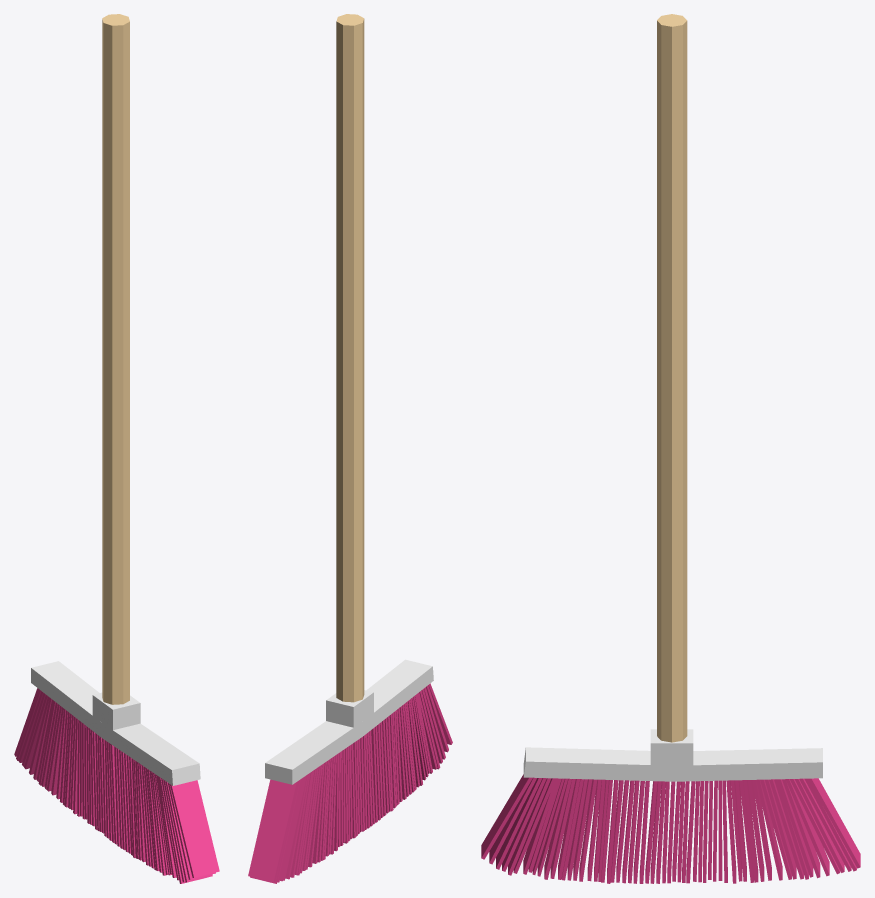
The model's file is Escoba_Rosa.fbx.
3 views of the same model, side by side, from view 1: azimuth 30°, elevation 25°; view 2: azimuth 150°, elevation 25°; view 3: azimuth 270°, elevation 25° (orthographic). The views are drawn at different scales.
Parts seen in each view (by area): view 1: Palo_Escoba, Base_escobetilla, Cerdas_Escobetilla.014, Base_2_escobetilla, Cerdas_Escobetilla.012; view 2: Palo_Escoba, Base_escobetilla, Cerdas_Escobetilla.001, Base_2_escobetilla; view 3: Palo_Escoba, Base_escobetilla, Base_2_escobetilla, Cerdas_Escobetilla.001, Cerdas_Escobetilla.014, Cerdas_Escobetilla.006.
Boxes of the visible parts, bbox=[...] form: Palo_Escoba: bbox=[102, 14, 129, 704]; Base_escobetilla: bbox=[31, 661, 200, 785]; Cerdas_Escobetilla.014: bbox=[169, 780, 219, 877]; Base_2_escobetilla: bbox=[92, 692, 140, 730]; Cerdas_Escobetilla.012: bbox=[165, 781, 212, 882]; Palo_Escoba: bbox=[336, 14, 364, 702]; Base_escobetilla: bbox=[265, 659, 433, 784]; Cerdas_Escobetilla.001: bbox=[248, 779, 298, 882]; Base_2_escobetilla: bbox=[326, 690, 373, 727]; Palo_Escoba: bbox=[657, 14, 687, 742]; Base_escobetilla: bbox=[523, 747, 822, 781]; Base_2_escobetilla: bbox=[650, 729, 693, 765]; Cerdas_Escobetilla.001: bbox=[808, 778, 860, 868]; Cerdas_Escobetilla.014: bbox=[481, 774, 532, 859]; Cerdas_Escobetilla.006: bbox=[785, 779, 829, 876].
Bounding box in the file's own units: 200 × 5610 × 2251.
